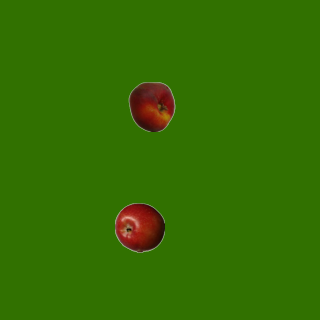Apple Braeburn: (114, 202, 164, 252)
Nectarine Flat: (126, 81, 176, 131)
